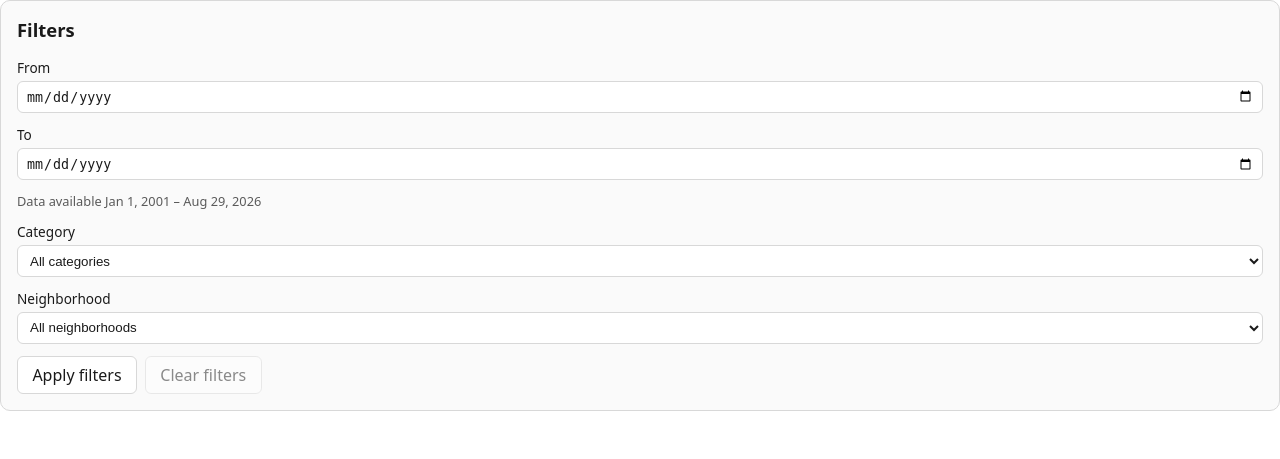
Test: FiltersPanel date validation › rejects a From date before the dataset's earliest available date and does not apply
The width and height of the screenshot is (1280, 459).
Type "1999-01-01" into the date field labelled "From" at point(640, 97), box [17,81,1263,113]
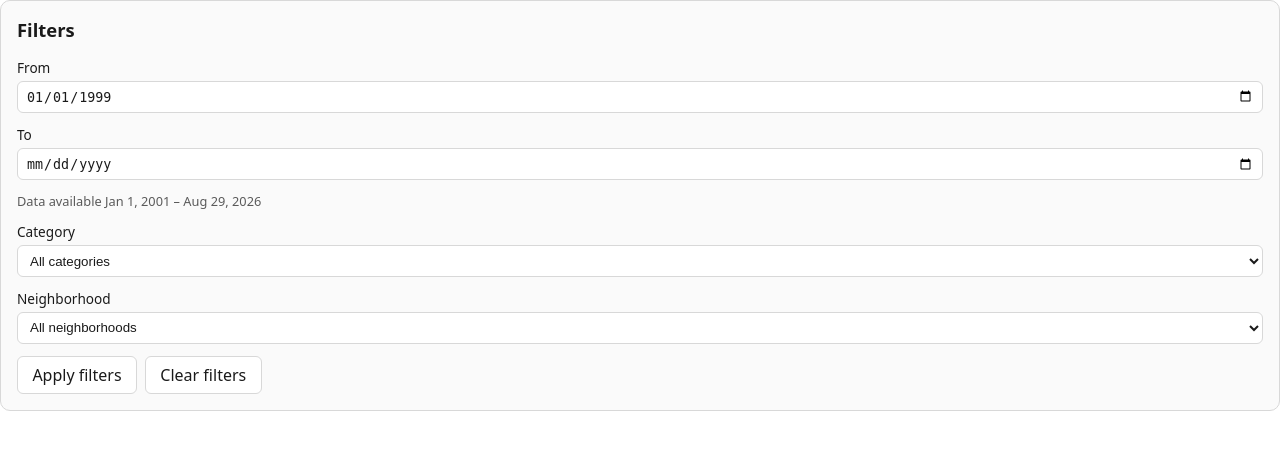
Click the button "Apply filters" at point(77, 375), box [17,356,137,394]
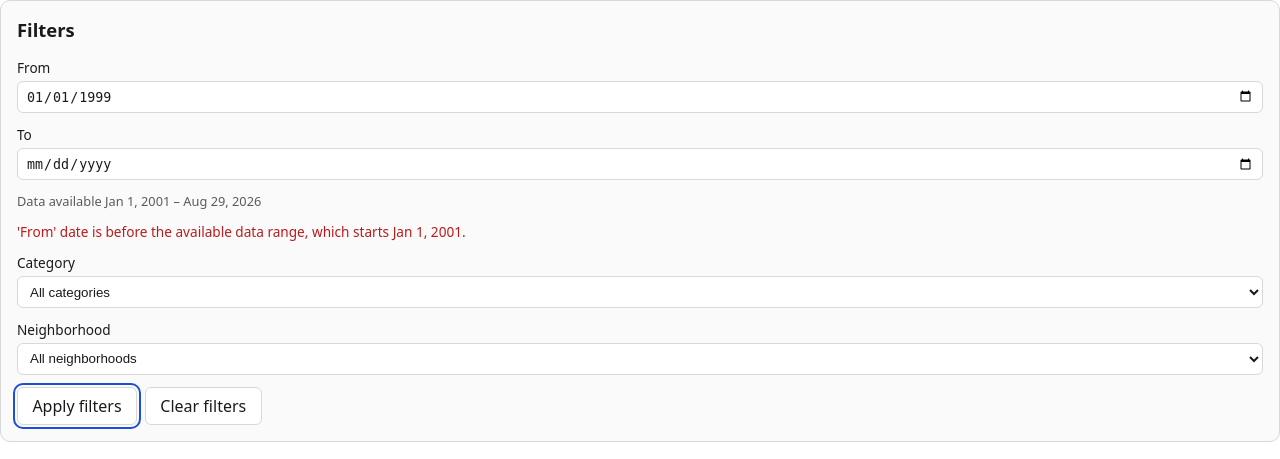
expect the message shows "before the available data range": met, box [17,222,466,241]
